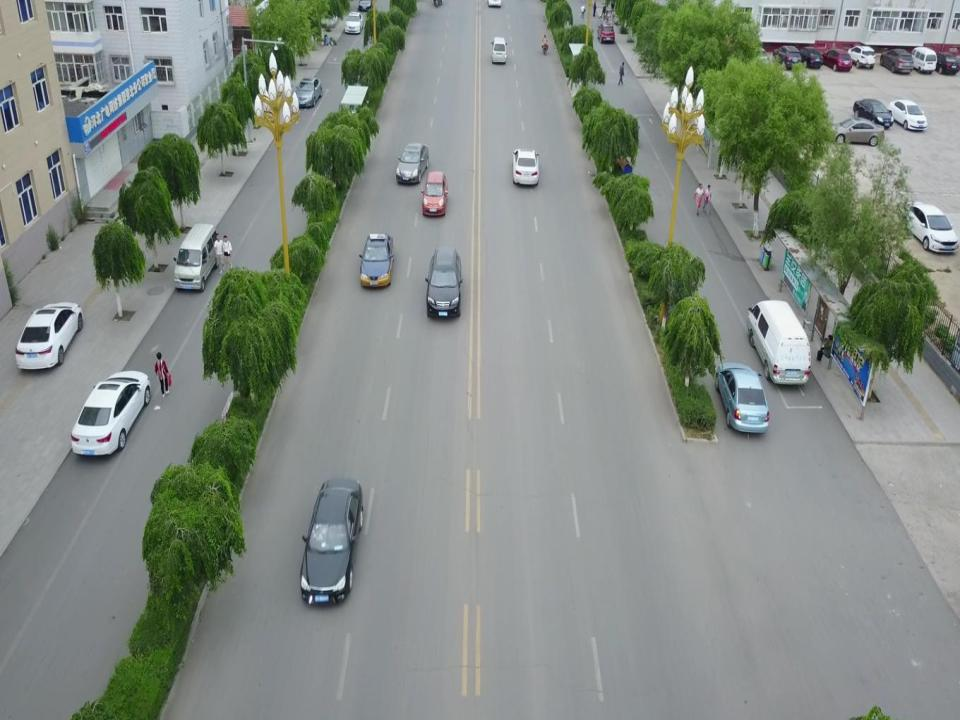car: (298, 474, 364, 602), (72, 363, 144, 461), (16, 298, 74, 364), (718, 359, 768, 433), (903, 200, 958, 252), (428, 250, 462, 318), (888, 88, 928, 132), (393, 136, 429, 182), (362, 234, 391, 286), (835, 117, 884, 146), (858, 96, 894, 128), (882, 44, 913, 74), (426, 170, 446, 214), (516, 151, 536, 191), (853, 43, 877, 70), (935, 48, 958, 75), (801, 43, 823, 71), (778, 46, 802, 70), (828, 50, 854, 71), (300, 76, 320, 103), (490, 35, 508, 64), (596, 19, 617, 43), (344, 13, 365, 36)
van: (748, 298, 816, 384), (174, 226, 214, 294), (917, 46, 939, 76)
